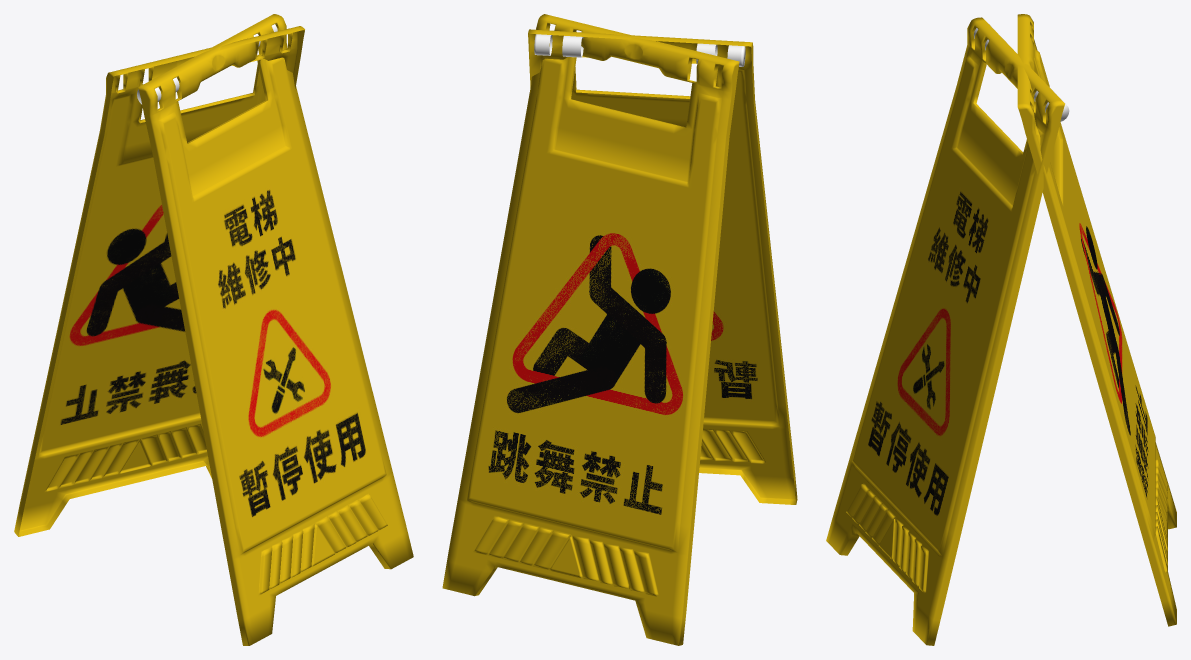
File: a_board.glb
The picture shows the model from 3 angles, left to right: view 1: azimuth 30°, elevation 25°; view 2: azimuth 150°, elevation 25°; view 3: azimuth 270°, elevation 25°; orthographic projection. The views are drawn at different scales.
Parts seen in each view (by area): view 1: boardL.001; view 2: boardL.001; view 3: boardL.001.
Part boxes in pixels (box(x1,y1,x2,y2)): boardL.001: box(14, 14, 413, 645); boardL.001: box(442, 14, 797, 645); boardL.001: box(826, 14, 1176, 645).
Bounding box in the file's own units: 0.5599 × 1 × 0.6231.
2 materials, 1 textured.
